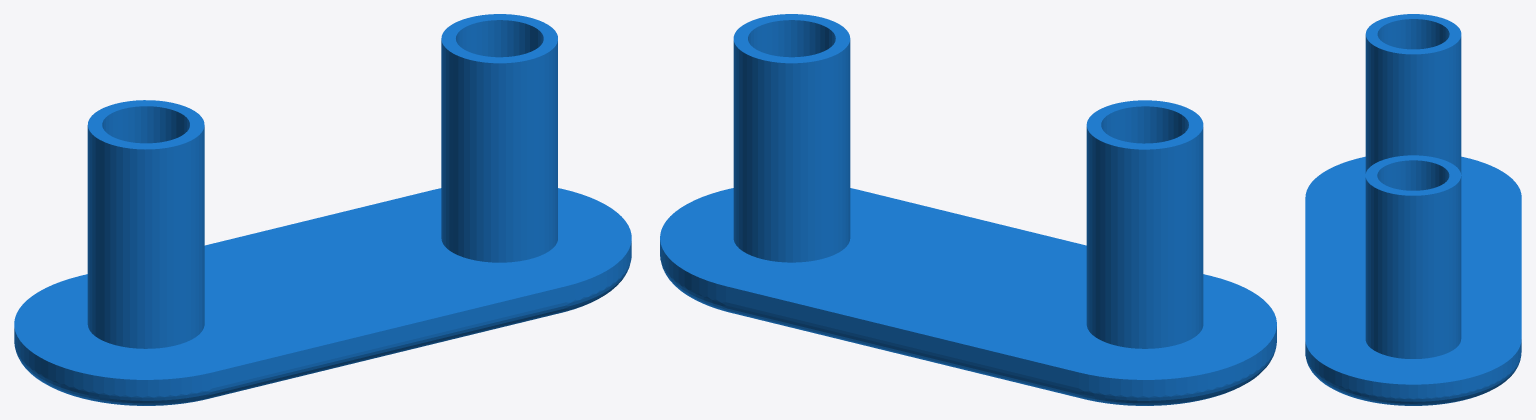
File: bottom_casing.dae
3 renders of one model, left to right at view 1: azimuth 30°, elevation 25°; view 2: azimuth 150°, elevation 25°; view 3: azimuth 270°, elevation 25°, orthographic. The views are drawn at different scales.
Visible parts, largest first — view 1: Bottom Casing; view 2: Bottom Casing; view 3: Bottom Casing.
Boxes of the visible parts, x1,y1,x2,y2 form: Bottom Casing: (14,14,631,405); Bottom Casing: (660,14,1276,405); Bottom Casing: (1305,14,1521,405).
Size of the model in its own units: 0.0382 by 0.015 by 0.0145.
